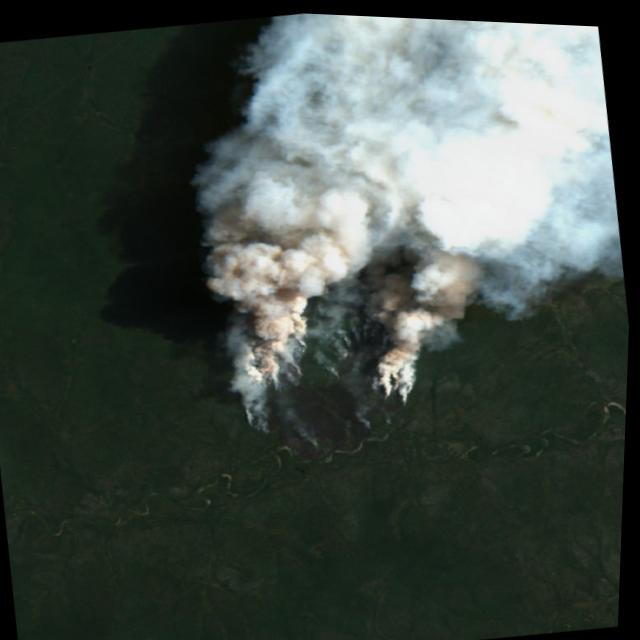fire: (209, 261, 472, 481)
